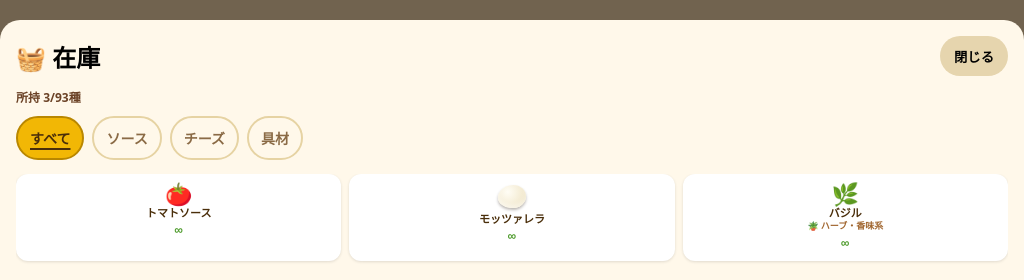
it: InventoryOverlay (read-only stock view) › test 7: switching shelf chips changes the visible set back and forth
This screenshot has width=1024, height=280.
Click the button "チーズ".
click(204, 138)  # box [170,116,239,160]
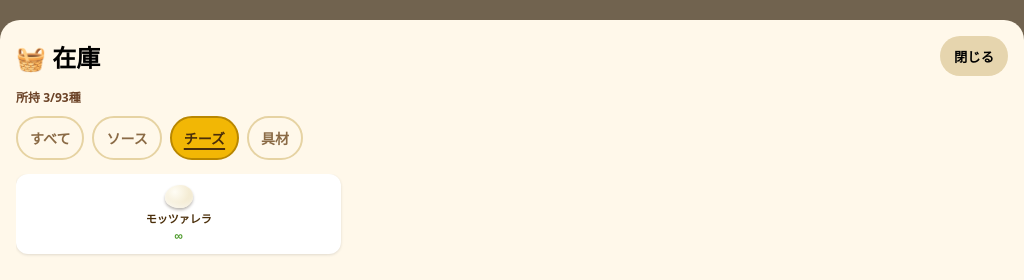
Expected: the text "モッツァレラ" is shown, [146,212,212,225]
Expected: the text "トマトソース" is gone
Click the button "すべて".
click(50, 138)  # box [16,116,84,160]
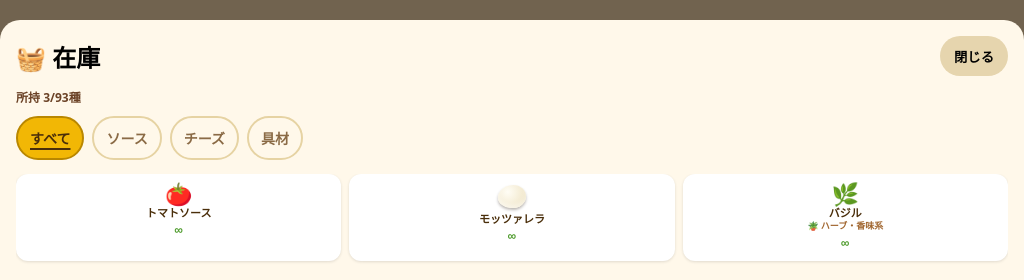
Expected: the text "モッツァレラ" is shown, [479,212,545,225]
Expected: the text "トマトソース" is shown, [146,206,211,219]
Expected: the text "バジル" is shown, [829,206,862,219]
